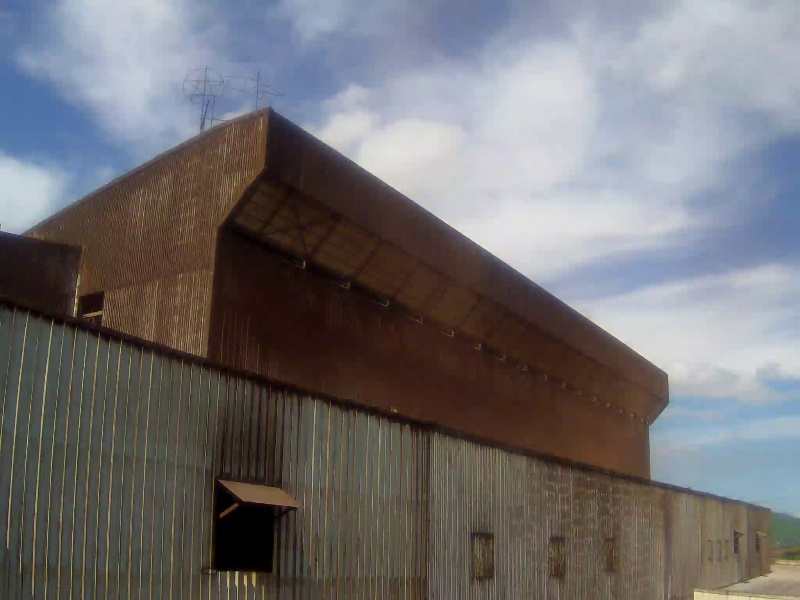bom: (247, 45, 706, 445), (5, 6, 264, 181), (604, 291, 796, 494)
